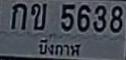3: (92, 4, 106, 31)
5: (60, 3, 74, 30)
6: (77, 4, 90, 31)
8: (109, 5, 122, 32)
A01: (10, 2, 26, 29)
A02: (30, 2, 46, 29)
BKN: (36, 37, 82, 57)
